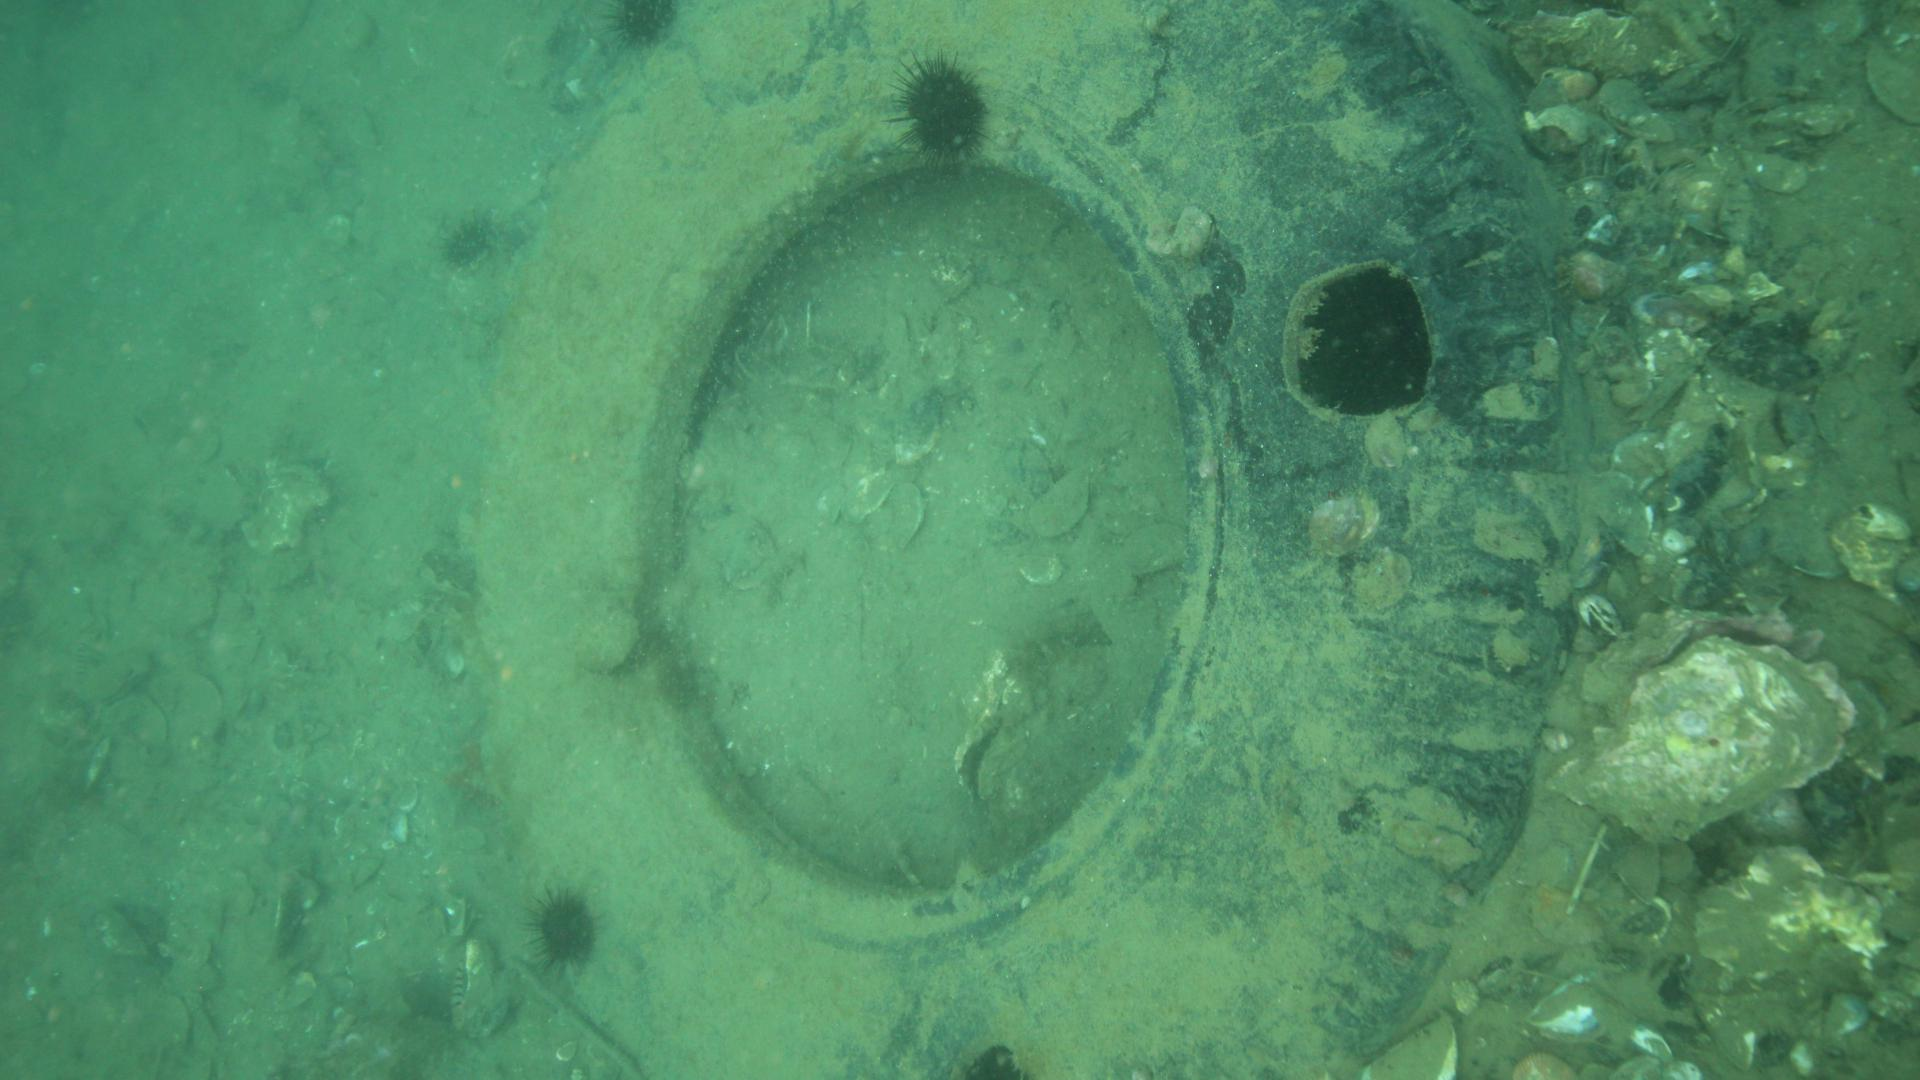tire: (473, 0, 1580, 1080)
